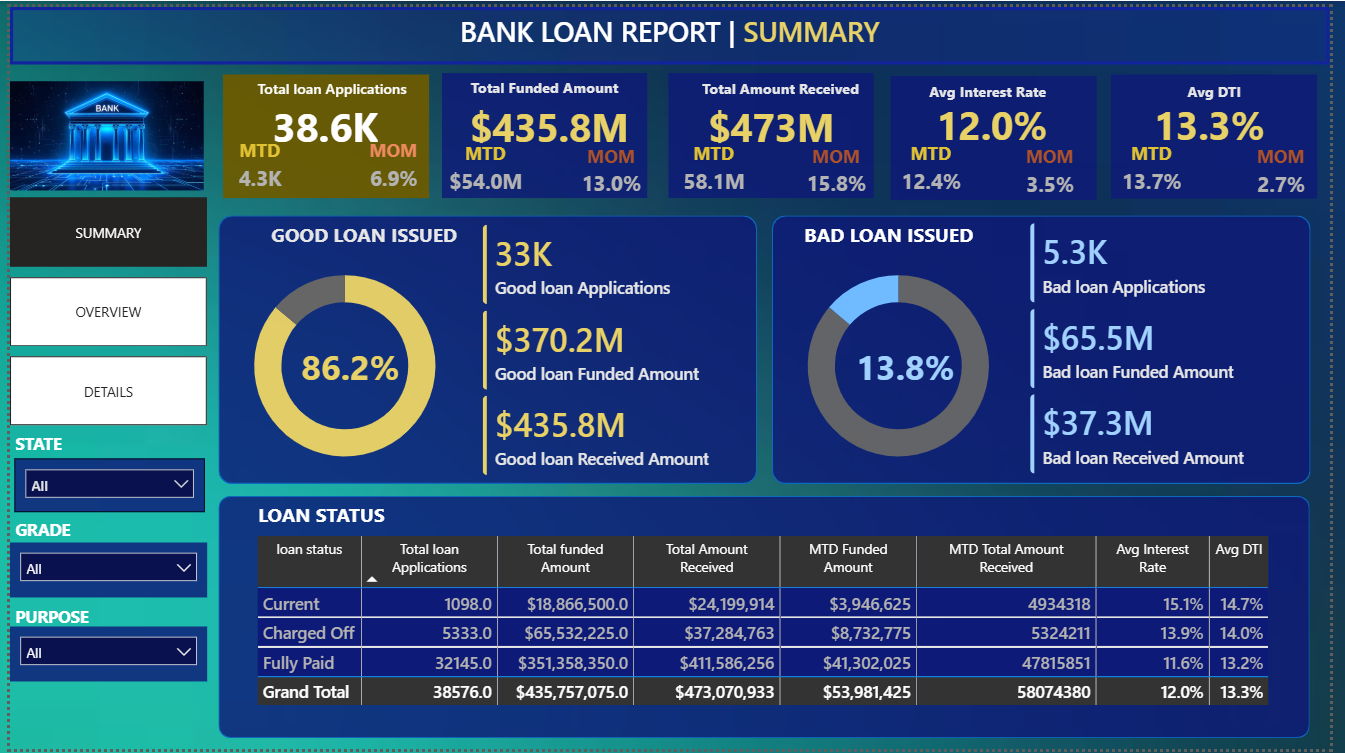

Layout of this report page (visuals, bound fields, positions):
{"tool":"powerbi","page":{"name":"SUMMARY","canvas":[1280,720],"ordinal":0},"visuals":[{"type":"shape","box":[-0.4,0,1280.3,55.7],"z":0,"group":"g1"},{"type":"shape","box":[419.4,64.8,199.2,121.4],"z":0},{"type":"shape","box":[-0.4,55.7,191.8,665.6],"z":1000,"group":"g1"},{"type":"cardVisual","fields":{"Data":["Bank_loan_data.Total funded Amount"]},"box":[408,79.3,231.5,69.6],"z":1000},{"type":"shape","box":[206.2,65.6,200,120],"z":2000,"group":"g1"},{"type":"card","title":"MTD","fields":{"Values":["Bank_loan_data.MTD Funded Amount"]},"box":[419.4,129.5,84.2,58.3],"z":2000},{"type":"textbox","box":[-0.4,0,1280.3,55.7],"z":3000,"group":"g1"},{"type":"card","title":"MOM","fields":{"Values":["Bank_loan_data.MOM Total Funded Amount"]},"box":[546.9,131.9,71.6,57],"z":3000},{"type":"group","id":"g1","title":"Group 1","box":[-0.4,0,1280.3,721.3],"z":4000},{"type":"cardVisual","fields":{"Data":["Bank_loan_data.Total loan Applications"]},"box":[224.7,79.3,161.9,69.6],"z":4000,"group":"g1"},{"type":"textbox","box":[206.9,64.8,212.1,29.1],"z":5000,"group":"g1"},{"type":"shape","box":[639.6,64.8,199.2,121.4],"z":5000},{"type":"textbox","box":[419.4,63.1,199.2,30.8],"z":6000},{"type":"card","title":"MTD","fields":{"Values":["Bank_loan_data.MTD Loan Applications"]},"box":[206.9,126.3,71.2,58.3],"z":6000,"group":"g1"},{"type":"shape","box":[854.6,66.7,200.2,120.5],"z":7000},{"type":"card","title":"MOM","fields":{"Values":["Bank_loan_data.MOM loan Applications"]},"box":[336.4,126.3,71.2,58.3],"z":7000,"group":"g1"},{"type":"cardVisual","fields":{"Data":["Bank_loan_data.Total Amount Received"]},"box":[623.4,79.3,231.5,69.6],"z":8000},{"type":"card","title":"MOM","fields":{"Values":["Bank_loan_data.MOM Total Amount Received"]},"box":[765.1,131.9,71.6,57],"z":9000},{"type":"card","title":"MTD","fields":{"Values":["Bank_loan_data.MTD Total Amount Received"]},"box":[639.7,130.2,84.6,58.6],"z":10000},{"type":"textbox","box":[639.7,63.5,214.9,50.5],"z":11000},{"type":"shape","box":[1067.8,65.1,200.2,120.5],"z":12000},{"type":"cardVisual","fields":{"Data":["Bank_loan_data.Avg Interest Rate"]},"box":[836.7,78.1,231.2,70],"z":13000},{"type":"card","title":"MTD","fields":{"Values":["Bank_loan_data.MTD Avg DTI"]},"box":[1067.8,130.2,78.1,58.6],"z":14000},{"type":"card","title":"MOM","fields":{"Values":["Bank_loan_data.MOM Avg Int Rate"]},"box":[973.4,131.9,70,58.6],"z":15000},{"type":"textbox","box":[854.6,66.7,188.8,47.2],"z":16000},{"type":"textbox","box":[1067.8,66.7,200.2,47.2],"z":17000},{"type":"cardVisual","fields":{"Data":["Bank_loan_data.Avg DTI"]},"box":[1048.3,78.1,231.2,70],"z":18000},{"type":"shape","box":[201.8,201.8,522.5,260.5],"z":19000},{"type":"card","title":"MTD","fields":{"Values":["Bank_loan_data.MTD Avg Int Rate"]},"box":[854.6,130.2,78.1,58.6],"z":20000},{"type":"shape","box":[739,201.8,522.5,260.5],"z":21000},{"type":"card","title":"MOM","fields":{"Values":["Bank_loan_data.MOM Avg DTI"]},"box":[1198.1,131.9,70,58.6],"z":22000},{"type":"donutChart","fields":{"Category":["Bank_loan_data.Good vs Bad loan"],"Y":["Bank_loan_data.Total loan Applications"]},"box":[202.4,233.2,244.5,229.9],"z":23000},{"type":"cardVisual","fields":{"Data":["Bank_loan_data.Good loan %"]},"box":[251,312.5,160.3,69.6],"z":24000},{"type":"textbox","box":[224.6,201.8,239.3,50.5],"z":25000},{"type":"cardVisual","fields":{"Data":["Bank_loan_data.Good loan Applications","Bank_loan_data.Good loan Funded Amount","Bank_loan_data.Good loan Received Amount"]},"box":[452.5,205.1,260.5,257.2],"z":26000},{"type":"donutChart","fields":{"Category":["Bank_loan_data.Good vs Bad loan"],"Y":["Bank_loan_data.Total loan Applications"]},"box":[740,233.2,244.5,229.9],"z":27000},{"type":"textbox","box":[738.4,202.4,234.8,50.2],"z":28000},{"type":"cardVisual","fields":{"Data":["Bank_loan_data.Bad loan %"]},"box":[788.6,312.5,160.3,69.6],"z":29000},{"type":"shape","box":[202.4,474.4,1059,234.8],"z":30000},{"type":"tableEx","fields":{"Values":["Bank_loan_data.loan_status","Bank_loan_data.Total loan Applications","Bank_loan_data.Total funded Amount","Bank_loan_data.Total Amount Received","Bank_loan_data.MTD Funded Amount","Bank_loan_data.MTD Total Amount Received","Bank_loan_data.Avg Interest Rate","Bank_loan_data.Avg DTI"]},"box":[234.8,508.4,1008.8,183],"z":31000},{"type":"cardVisual","fields":{"Data":["Bank_loan_data.Bad loan Applications","Bank_loan_data.Bad loan Funded Amount","Bank_loan_data.Bad loan Received Amount"]},"box":[984.5,204,259.1,257.5],"z":32000},{"type":"textbox","box":[236.4,474.4,183,45.3],"z":33000},{"type":"slicer","fields":{"Values":["Bank_loan_data.address_state"]},"box":[3.5,438.8,184.6,51.8],"z":33001,"group":"g1"},{"type":"textbox","box":[0,408,87.4,42.1],"z":34000},{"type":"slicer","fields":{"Values":["Bank_loan_data.grade"]},"box":[0,519.8,191.1,53.4],"z":35000},{"type":"textbox","box":[0,490.6,102,40.5],"z":36000},{"type":"slicer","fields":{"Values":["Bank_loan_data.purpose"]},"box":[0,600.7,191.1,53.4],"z":37000},{"type":"textbox","box":[0,574.8,102,50.2],"z":38000},{"type":"image","box":[0,48.6,187.8,153.8],"z":39000},{"type":"pageNavigator","box":[0,184.6,191.1,223.5],"z":40000}]}

Visuals, with their boxes in screenshot pixels (x1, y1, x2, y2), scaled from the page's 1280x720 canvas onto the 1345x753 screenshot:
shape: bbox=(0, 0, 1344, 58)
shape: bbox=(441, 68, 650, 195)
shape: bbox=(0, 58, 201, 752)
cardVisual - Bank_loan_data.Total funded Amount: bbox=(429, 83, 672, 156)
shape: bbox=(217, 69, 427, 194)
"MTD" card: bbox=(441, 135, 529, 196)
textbox: bbox=(0, 0, 1344, 58)
"MOM" card: bbox=(575, 138, 650, 198)
"Group 1" group: bbox=(0, 0, 1344, 752)
cardVisual - Bank_loan_data.Total loan Applications: bbox=(236, 83, 406, 156)
textbox: bbox=(217, 68, 440, 98)
shape: bbox=(672, 68, 881, 195)
textbox: bbox=(441, 66, 650, 98)
"MTD" card: bbox=(217, 132, 292, 193)
shape: bbox=(898, 70, 1108, 196)
"MOM" card: bbox=(353, 132, 428, 193)
cardVisual - Bank_loan_data.Total Amount Received: bbox=(655, 83, 898, 156)
"MOM" card: bbox=(804, 138, 879, 198)
"MTD" card: bbox=(672, 136, 761, 197)
textbox: bbox=(672, 66, 898, 119)
shape: bbox=(1122, 68, 1332, 194)
cardVisual - Bank_loan_data.Avg Interest Rate: bbox=(879, 82, 1122, 155)
"MTD" card: bbox=(1122, 136, 1204, 197)
"MOM" card: bbox=(1023, 138, 1096, 199)
textbox: bbox=(898, 70, 1096, 119)
textbox: bbox=(1122, 70, 1332, 119)
cardVisual - Bank_loan_data.Avg DTI: bbox=(1102, 82, 1344, 155)
shape: bbox=(212, 211, 761, 483)
"MTD" card: bbox=(898, 136, 980, 197)
shape: bbox=(777, 211, 1326, 483)
"MOM" card: bbox=(1259, 138, 1332, 199)
donutChart - Bank_loan_data.Good vs Bad loan x Bank_loan_data.Total loan Applications: bbox=(213, 244, 470, 484)
cardVisual - Bank_loan_data.Good loan %: bbox=(264, 327, 432, 400)
textbox: bbox=(236, 211, 487, 264)
cardVisual - Bank_loan_data.Good loan Applications x Bank_loan_data.Good loan Funded Amount: bbox=(475, 215, 749, 483)
donutChart - Bank_loan_data.Good vs Bad loan x Bank_loan_data.Total loan Applications: bbox=(778, 244, 1034, 484)
textbox: bbox=(776, 212, 1023, 264)
cardVisual - Bank_loan_data.Bad loan %: bbox=(829, 327, 997, 400)
shape: bbox=(213, 496, 1325, 742)
tableEx - Bank_loan_data.loan_status x Bank_loan_data.Total loan Applications: bbox=(247, 532, 1307, 723)
cardVisual - Bank_loan_data.Bad loan Applications x Bank_loan_data.Bad loan Funded Amount: bbox=(1034, 213, 1307, 483)
textbox: bbox=(248, 496, 441, 544)
slicer - Bank_loan_data.address_state: bbox=(4, 459, 198, 513)
textbox: bbox=(0, 427, 92, 471)
slicer - Bank_loan_data.grade: bbox=(0, 544, 201, 599)
textbox: bbox=(0, 513, 107, 555)
slicer - Bank_loan_data.purpose: bbox=(0, 628, 201, 684)
textbox: bbox=(0, 601, 107, 654)
image: bbox=(0, 51, 197, 212)
pageNavigator: bbox=(0, 193, 201, 427)
